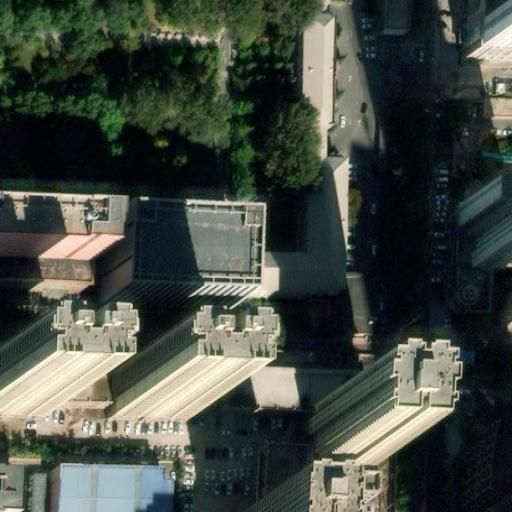building: (248, 13, 351, 293), (98, 215, 240, 307), (52, 463, 173, 512), (312, 391, 381, 463), (107, 370, 194, 425), (247, 442, 306, 512), (461, 196, 512, 266), (486, 419, 512, 512), (0, 461, 35, 511), (464, 24, 512, 60), (466, 0, 512, 34), (32, 473, 54, 512), (480, 94, 512, 118), (385, 0, 409, 25)
